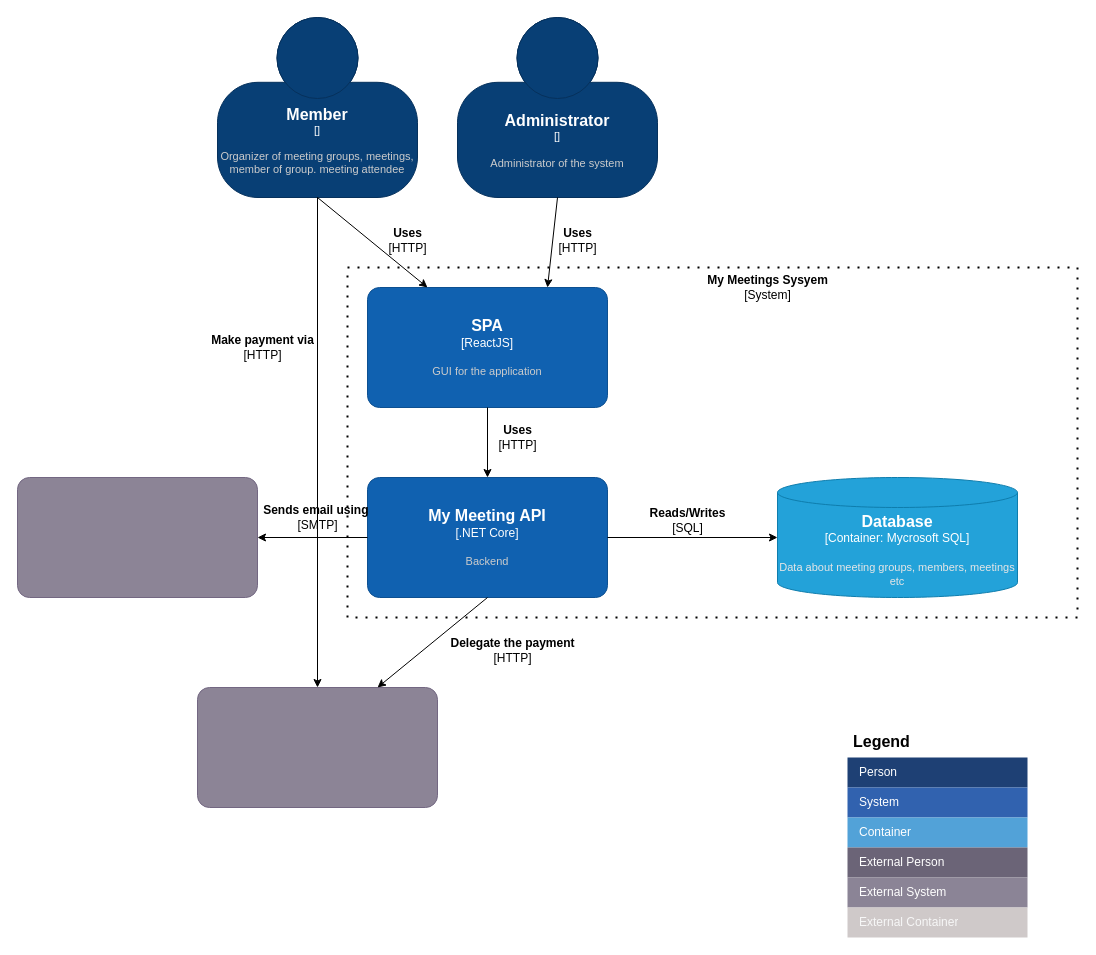
This 1096x955 diagram has some shape labels left out. Each missing label, with the centre of its shape:
Email system [] 3rd party SMTP server: pixel 137 537
Payment Gateway [] 3rd party payment service: pixel 317 747
